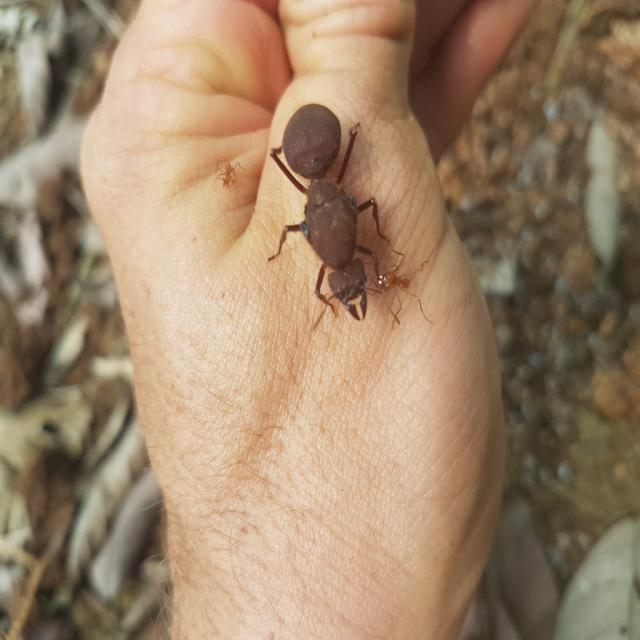Alive-Female-Dealate: (267, 103, 392, 331)
